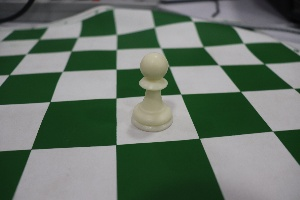white_pawn: (127, 44, 179, 137)
